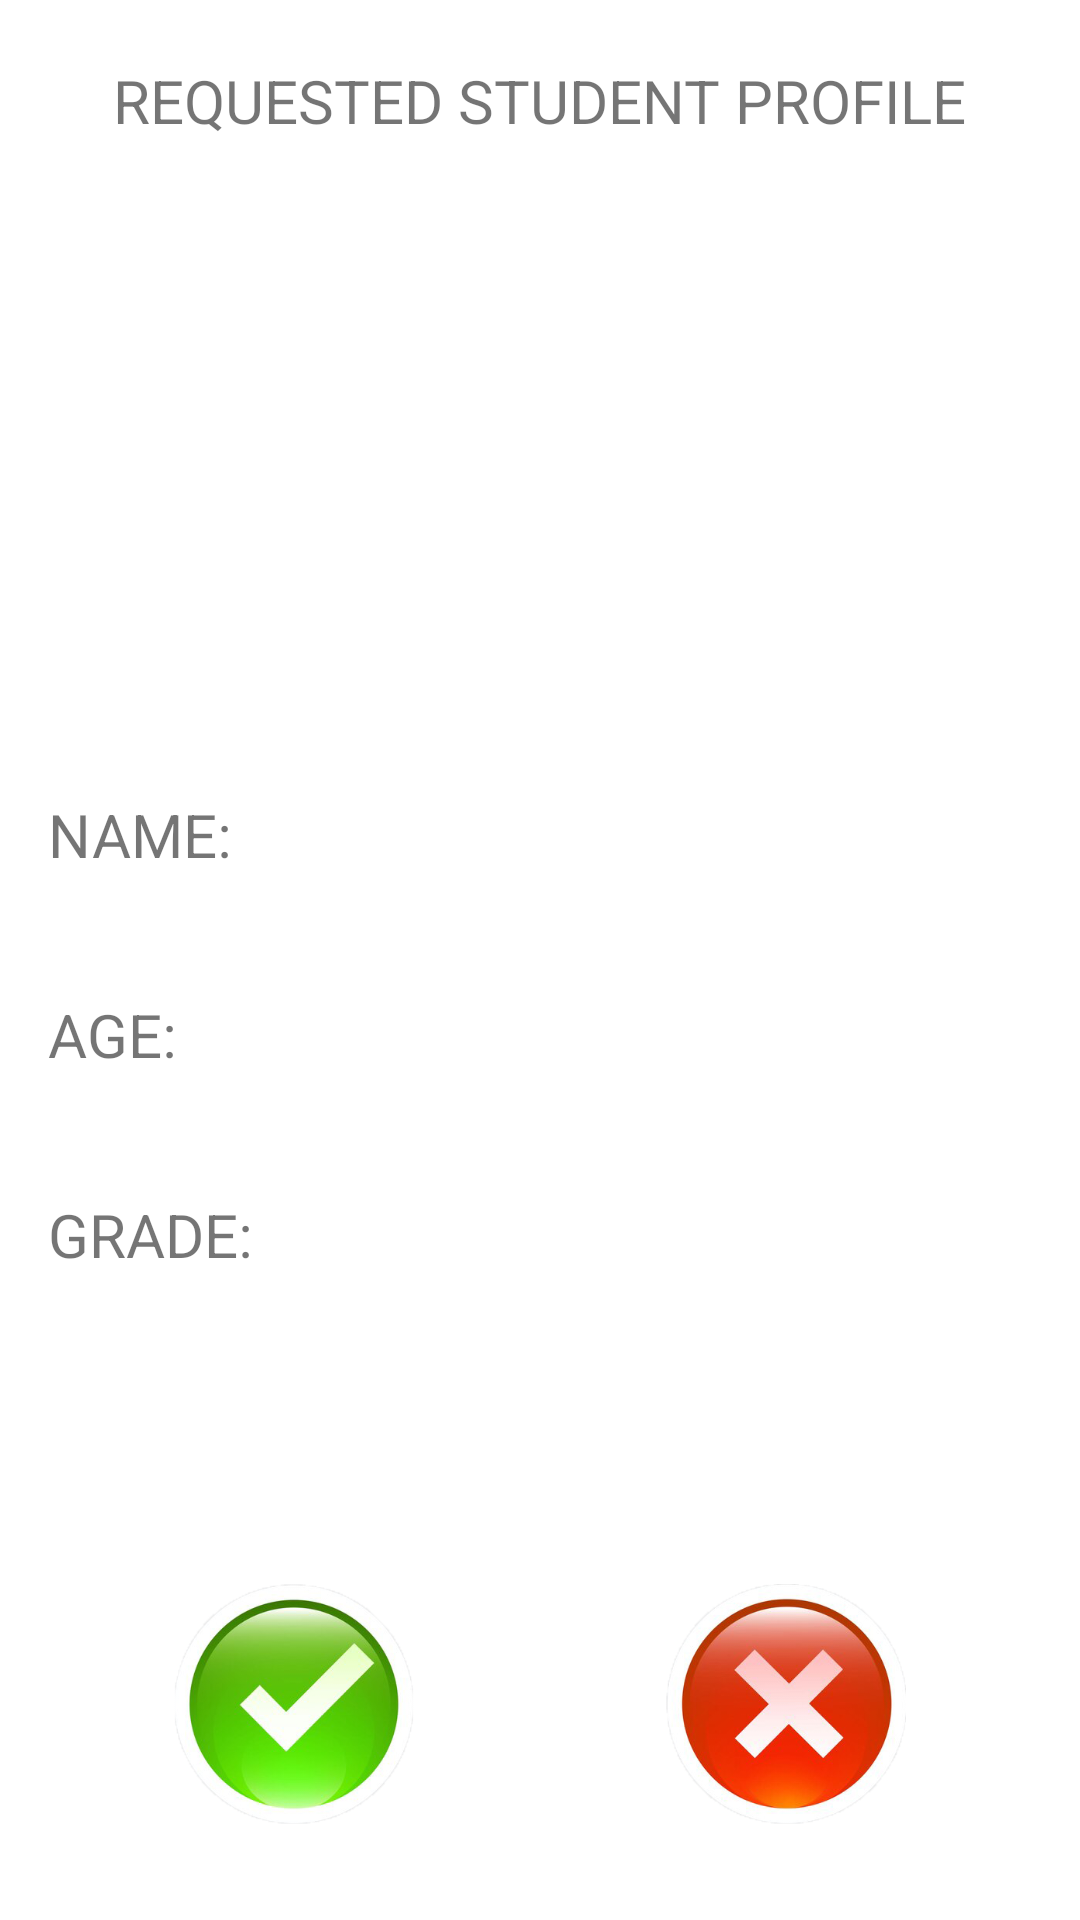

Locate icon controls on the screen. Image size 1080*1920, boxes as (x1, y1, x2, y2).
accept: (189, 1599, 399, 1809)
reject: (681, 1598, 892, 1809)
